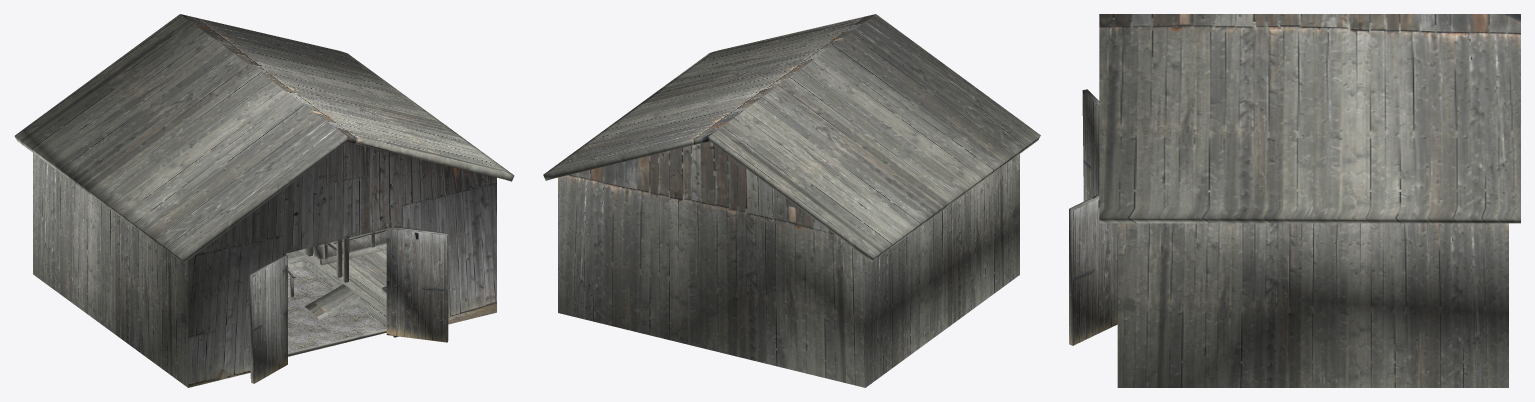
The model's file is barn_opendoor.fbx.
3 renders of one model, left to right at view 1: azimuth 30°, elevation 25°; view 2: azimuth 150°, elevation 25°; view 3: azimuth 270°, elevation 25°, orthographic. The views are drawn at different scales.
Parts seen in each view (by area): view 1: U3DMesh; view 2: U3DMesh; view 3: U3DMesh.
Boxes of the visible parts, box(x1,y1,x2,y2) form: U3DMesh: box(14, 14, 514, 387); U3DMesh: box(543, 14, 1040, 387); U3DMesh: box(1069, 14, 1520, 387).
Size of the model in its own units: 25.24 by 15.93 by 23.52.
Materials: 3 (2 with a texture image).
